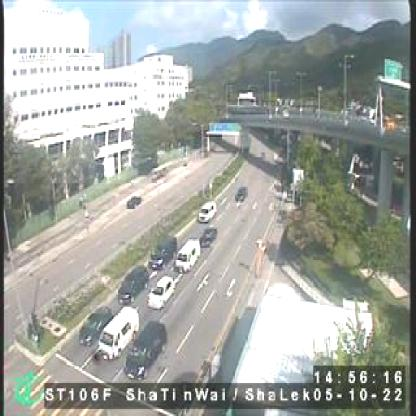Car: (122, 321, 165, 376), (96, 307, 139, 360), (75, 305, 112, 342), (116, 266, 146, 303), (147, 274, 173, 308), (174, 238, 199, 272), (147, 236, 173, 267), (198, 199, 214, 222), (201, 227, 219, 244), (126, 194, 140, 206), (235, 188, 244, 200)
